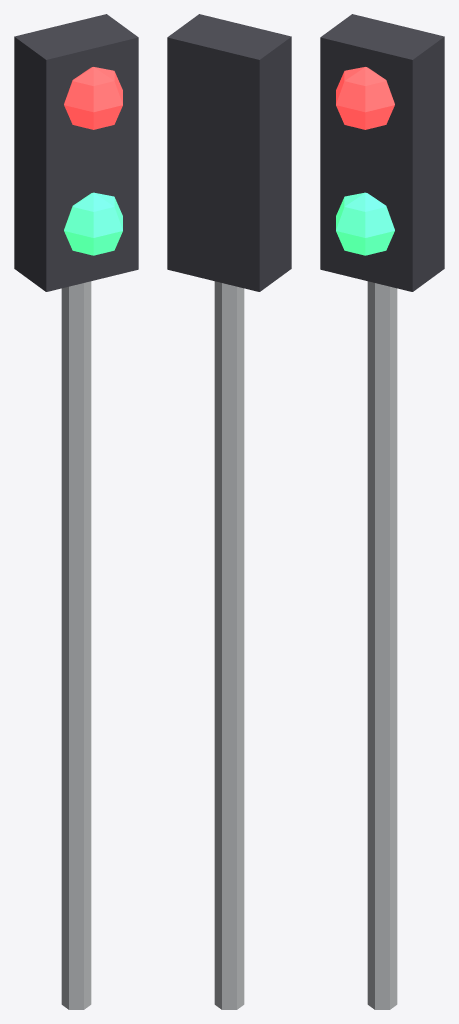
Rendered from tsuchisaka_signal_light.glb.
The picture shows the model from 3 angles, left to right: view 1: azimuth 30°, elevation 25°; view 2: azimuth 150°, elevation 25°; view 3: azimuth 330°, elevation 25°; orthographic projection.
Visible parts, largest first — view 1: tsuchisaka_signal_light; view 2: tsuchisaka_signal_light; view 3: tsuchisaka_signal_light.
Part boxes in pixels (x1,y1,x2,y2): tsuchisaka_signal_light: (14,14,138,1009); tsuchisaka_signal_light: (167,14,291,1009); tsuchisaka_signal_light: (320,14,444,1009).
Size of the model in its own units: 0.5 by 5 by 0.4486.
